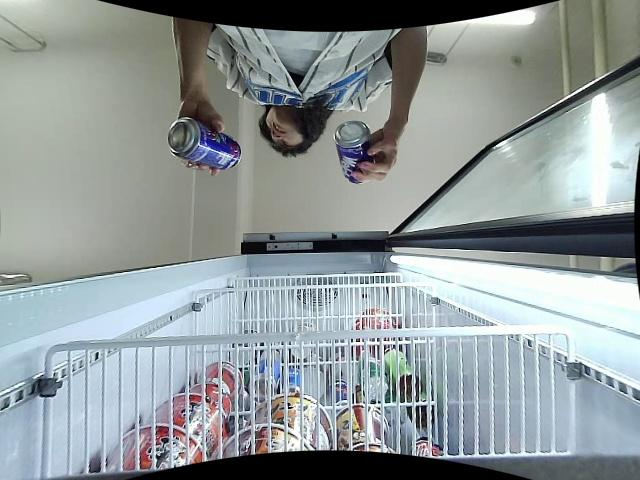00_hand: (179, 99, 225, 180), (351, 124, 398, 183)
14_welchsGrape: (167, 117, 241, 171), (335, 121, 375, 182)
